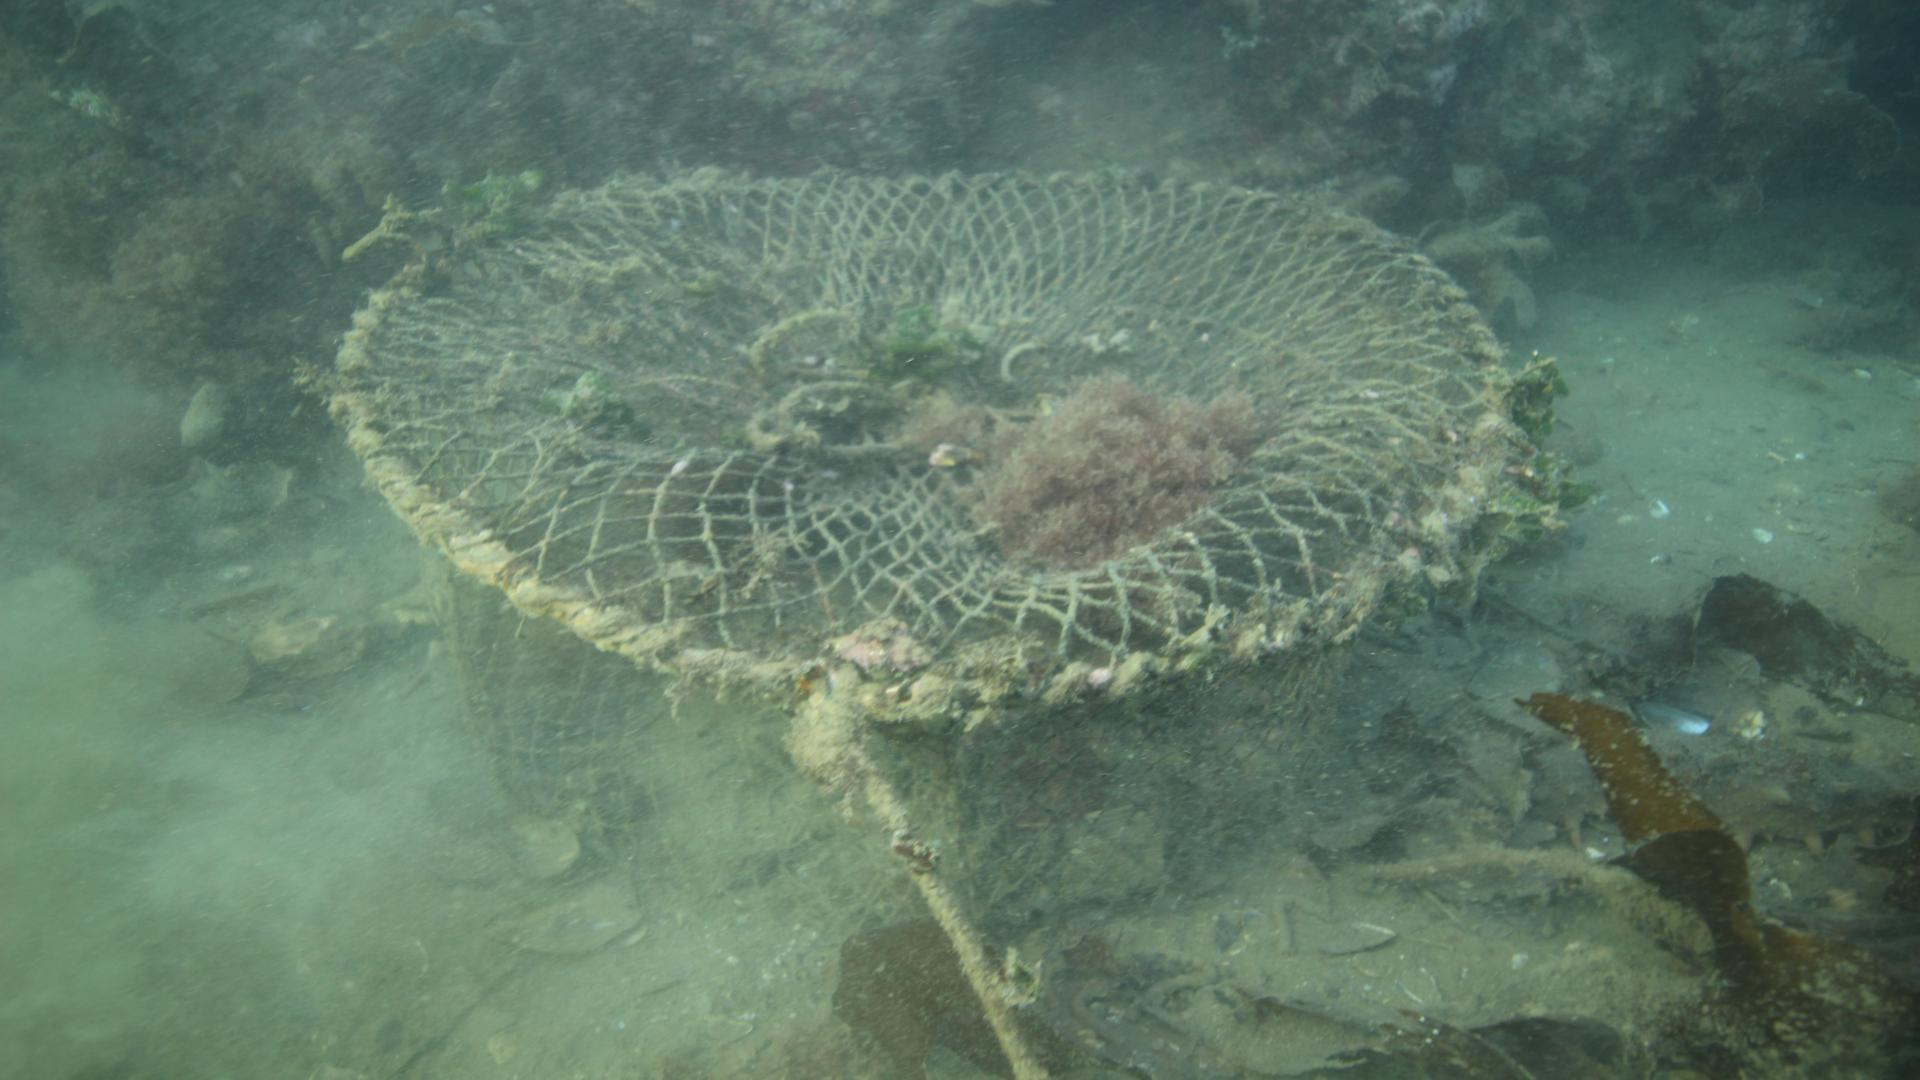circular fish trap: (323, 164, 1513, 938)
